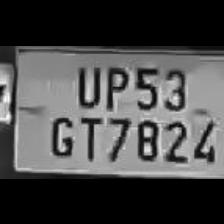2: (160, 116, 188, 162)
3: (160, 63, 188, 109)
4: (188, 111, 218, 164)
5: (128, 61, 160, 109)
7: (100, 112, 128, 162)
8: (132, 112, 160, 162)
G: (46, 111, 74, 156)
P: (100, 59, 128, 109)
T: (77, 111, 103, 161)
U: (71, 59, 102, 107)
